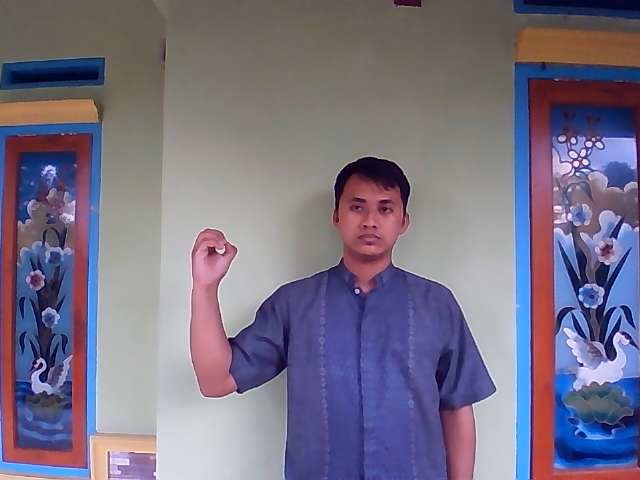O: (189, 227, 238, 284)
